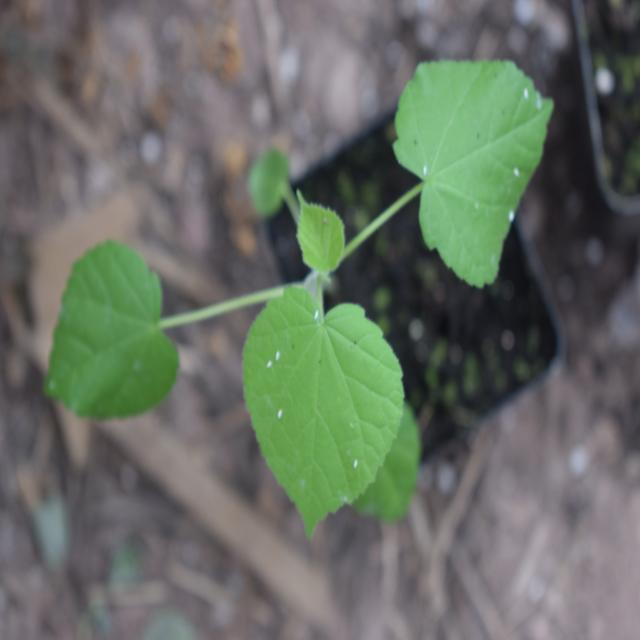abutilon theophrasti: (72, 67, 542, 524)
